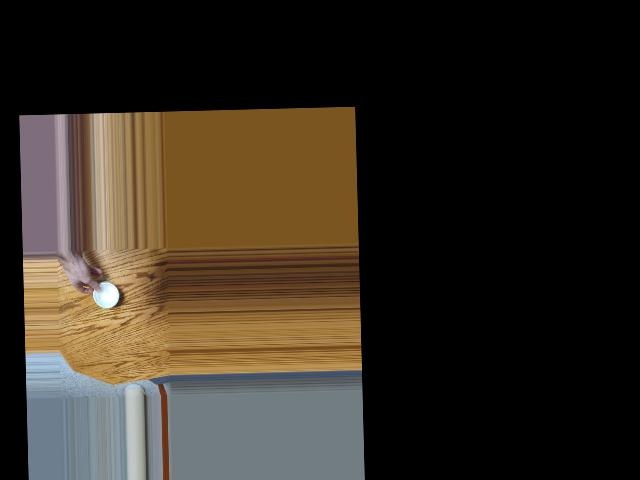cotage: (89, 279, 118, 308)
